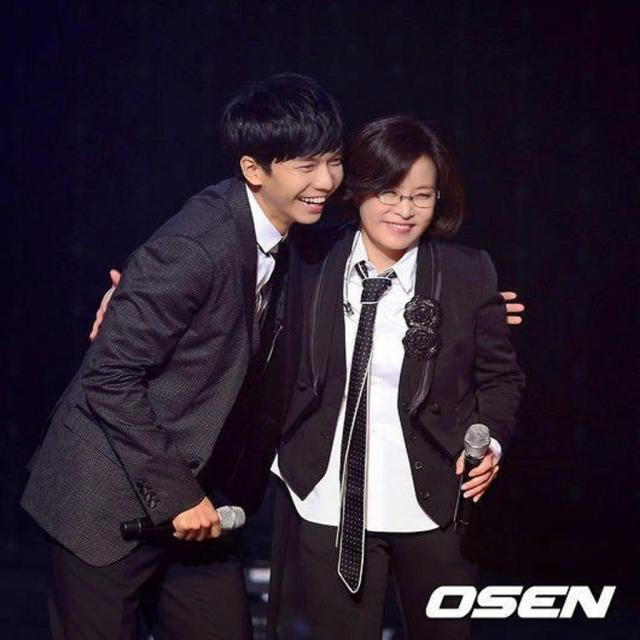Face: (356, 142, 460, 255), (248, 143, 352, 228)
